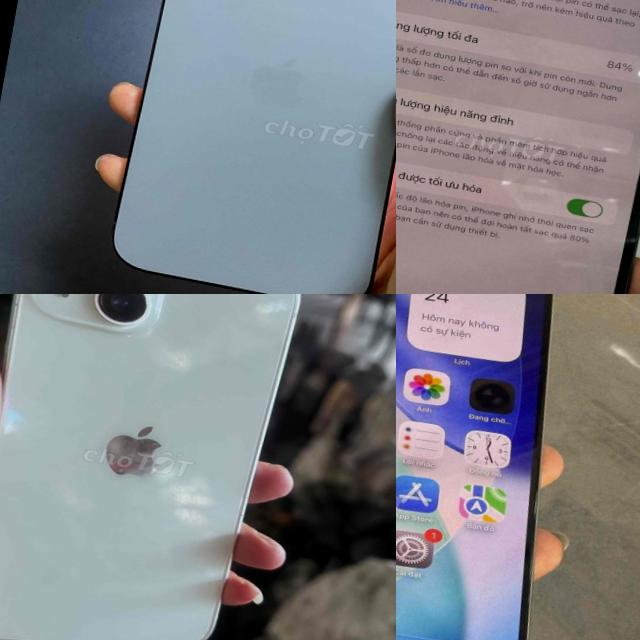gen_12_13: (98, 0, 396, 294)
gen_14: (396, 0, 640, 294)
gen_15: (0, 294, 319, 640), (396, 294, 597, 640)
scratch: (92, 416, 172, 484), (0, 294, 36, 358), (627, 55, 640, 103)
